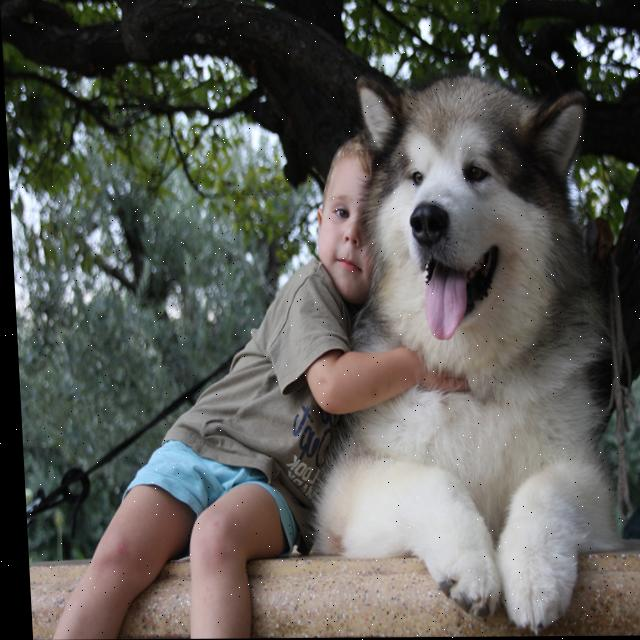ALASKAN_MALAMUTE: (274, 36, 640, 638)
